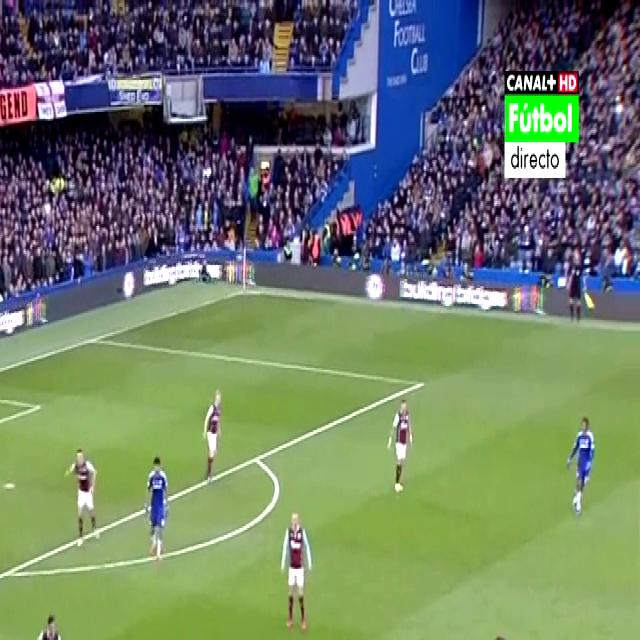referee: (554, 242, 586, 330)
soccer-player: (279, 498, 319, 638), (140, 443, 177, 566), (565, 403, 602, 522), (68, 434, 105, 551), (384, 392, 416, 501), (196, 384, 223, 495), (28, 599, 69, 640), (490, 624, 528, 640)
